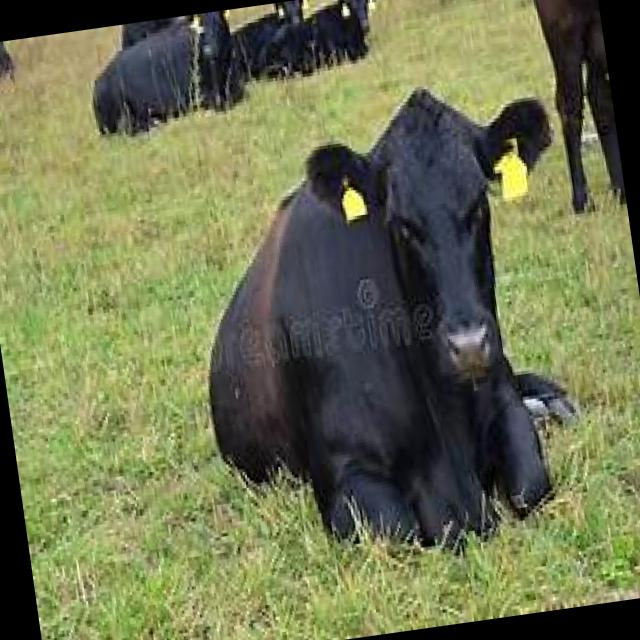animal: (168, 77, 604, 572), (528, 0, 627, 219), (84, 10, 243, 139), (222, 0, 318, 90), (285, 0, 386, 68)
